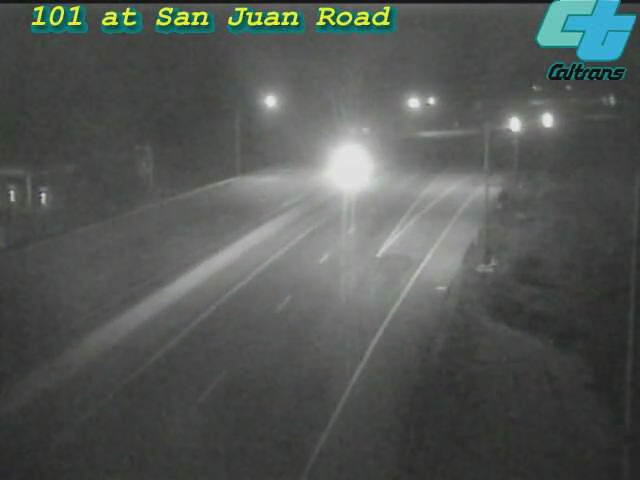vehicle: (305, 127, 385, 207), (487, 98, 537, 148), (518, 94, 568, 144)
